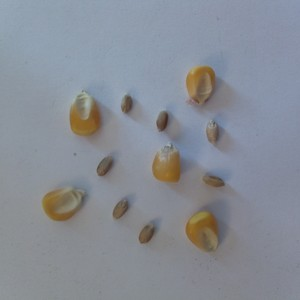maiz: (40, 180, 86, 223), (182, 208, 223, 256), (66, 88, 103, 139), (151, 139, 185, 187), (184, 65, 218, 109)
trigo: (136, 220, 158, 248), (198, 172, 226, 192), (93, 152, 115, 177), (204, 118, 221, 146), (111, 195, 129, 221), (153, 109, 170, 132), (118, 92, 134, 116)
